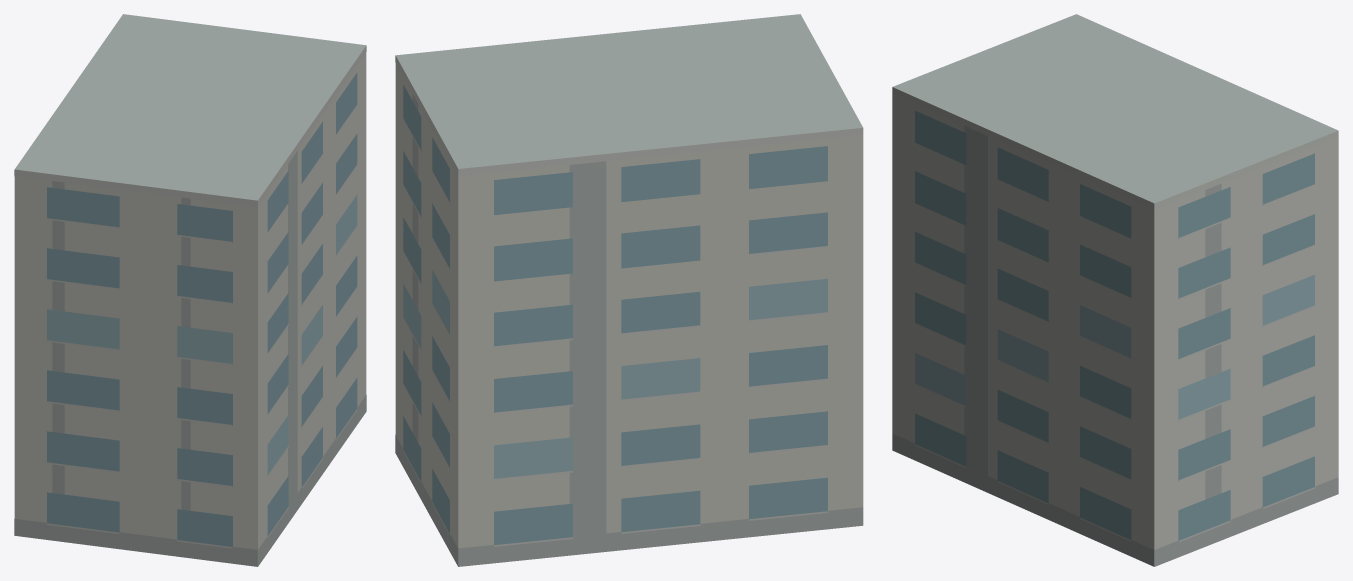
The model's file is survey-upis-33005275.glb.
The picture shows the model from 3 angles, left to right: view 1: azimuth 30°, elevation 25°; view 2: azimuth 150°, elevation 25°; view 3: azimuth 270°, elevation 25°; orthographic projection. The views are drawn at different scales.
Parts seen in each view (by area): view 1: survey-upis-33005275.tmp; view 2: survey-upis-33005275.tmp; view 3: survey-upis-33005275.tmp.
Part boxes in pixels (x1=…): survey-upis-33005275.tmp: x1=14, y1=14, x2=366, y2=566; survey-upis-33005275.tmp: x1=395, y1=14, x2=863, y2=566; survey-upis-33005275.tmp: x1=892, y1=14, x2=1338, y2=566.
Bounding box in the file's own units: 14.82 × 13.25 × 14.76.
